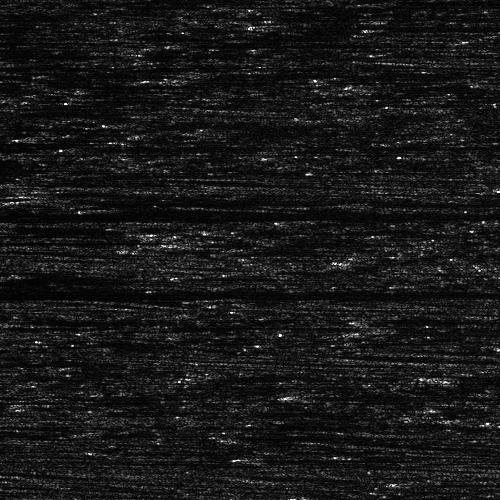rock: (227, 439, 300, 476), (265, 387, 370, 402), (385, 372, 500, 383), (212, 21, 305, 28), (0, 314, 56, 323)
shadow: (0, 204, 419, 221), (0, 286, 500, 297), (264, 439, 412, 476), (318, 387, 500, 402), (259, 21, 500, 28), (4, 314, 138, 323), (443, 372, 500, 383), (0, 239, 94, 244)
